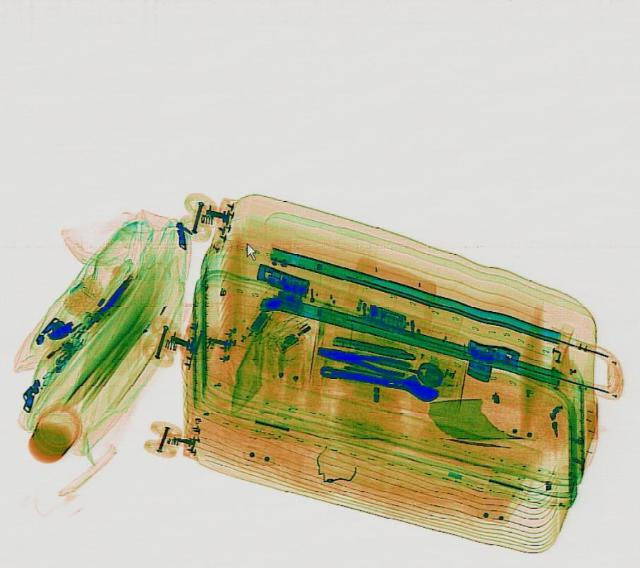Pliers: (314, 339, 408, 377)
Wrench: (315, 355, 441, 401)
